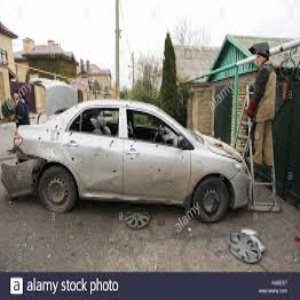door: (71, 142, 184, 200)
